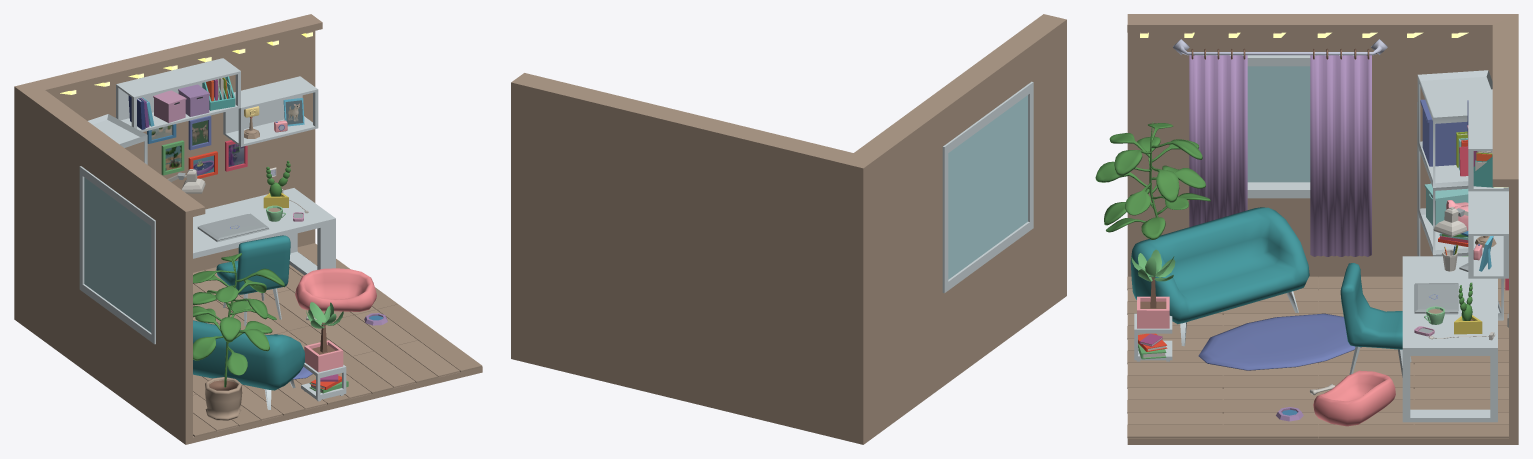
The model's file is office.glb.
The picture shows the model from 3 angles, left to right: view 1: azimuth 30°, elevation 25°; view 2: azimuth 150°, elevation 25°; view 3: azimuth 270°, elevation 25°; orthographic projection. The views are drawn at different scales.
Parts seen in each view (by area): view 1: Room_33, Window_15, Floor_1_31, Floor_2_32, Shelf_13, flower big_22, table_6, Sofa_11, object 1, Dog_bed_14, chair_8, Palm_7 (+7 smaller); view 2: Room_33, Window_15; view 3: Room_33, Curtains_24, Floor_1_31, Floor_2_32, Sofa_11, Window_15, rack_10, table_6, carpet_26, flower big_22, Shelf_13, Dog_bed_14 (+7 smaller).
Part boxes in pixels (<box>): Room_33: <box>14,14,482,444</box>; Window_15: <box>79,166,155,344</box>; Floor_1_31: <box>193,243,482,436</box>; Floor_2_32: <box>193,264,459,431</box>; Shelf_13: <box>116,58,318,146</box>; flower big_22: <box>193,253,284,420</box>; table_6: <box>193,188,335,275</box>; Sofa_11: <box>193,320,304,409</box>; object 1: <box>147,98,304,178</box>; Dog_bed_14: <box>295,268,387,325</box>; chair_8: <box>216,235,290,325</box>; Palm_7: <box>301,302,346,401</box>; Room_33: <box>511,14,1066,444</box>; Window_15: <box>942,81,1033,293</box>; Room_33: <box>1127,14,1518,444</box>; Curtains_24: <box>1173,39,1387,256</box>; Floor_1_31: <box>1127,276,1508,438</box>; Floor_2_32: <box>1128,289,1508,424</box>; Sofa_11: <box>1130,207,1309,346</box>; Window_15: <box>1203,55,1356,198</box>; rack_10: <box>1417,70,1504,320</box>; table_6: <box>1402,256,1497,422</box>; carpet_26: <box>1198,313,1361,370</box>; flower big_22: <box>1095,122,1210,239</box>; Shelf_13: <box>1468,89,1508,278</box>; Dog_bed_14: <box>1276,370,1395,426</box>.
Size of the model in its own units: 8.25 by 6.15 by 8.87.
Materials: 43 (1 with a texture image).
